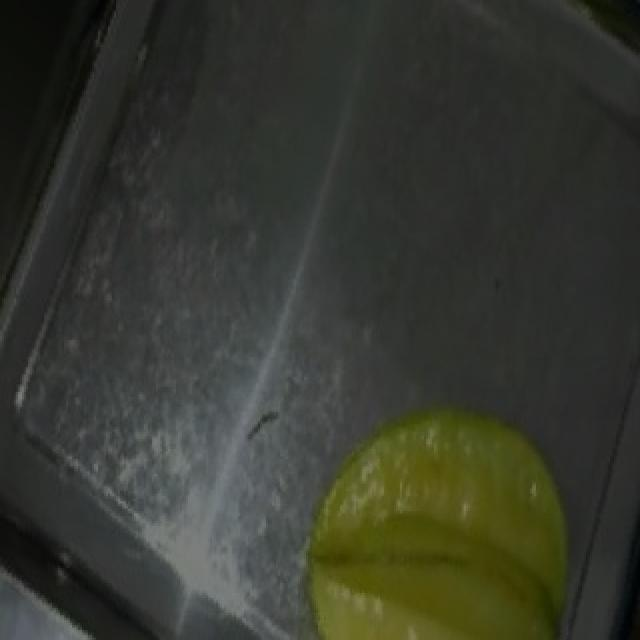fruit: (262, 364, 616, 640)
